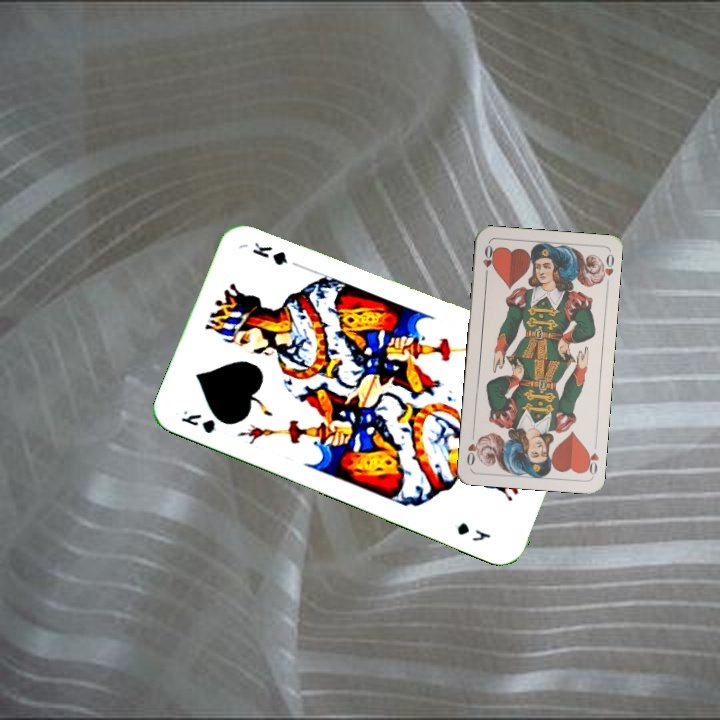GK: (177, 406, 218, 436)
HO: (581, 437, 601, 478), (479, 241, 497, 281)
